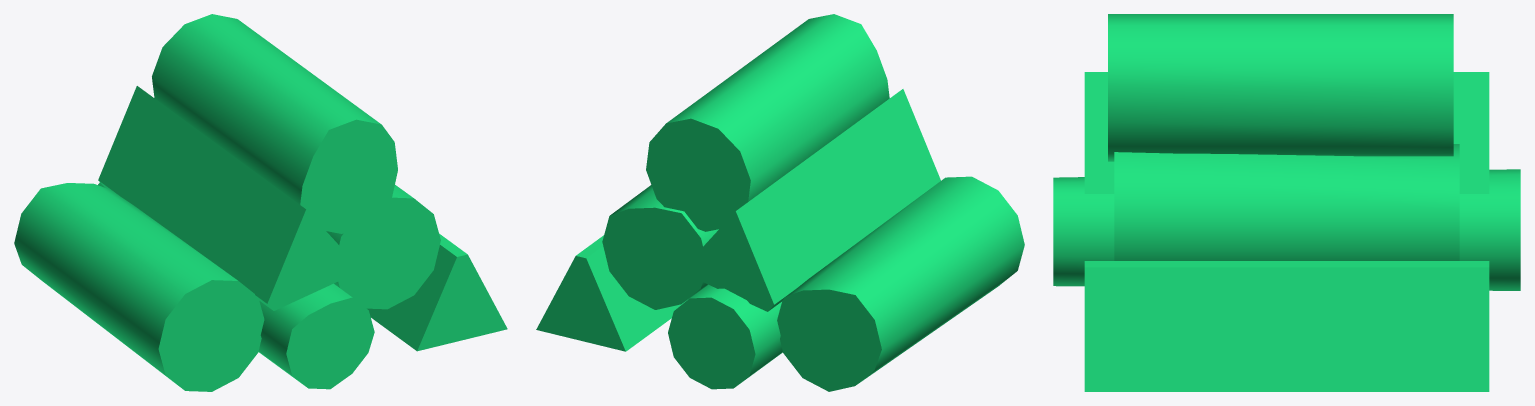
Rendered from Wood_Pile_01_Lod0.fbx.
3 views of the same model, side by side, from view 1: azimuth 30°, elevation 25°; view 2: azimuth 150°, elevation 25°; view 3: azimuth 270°, elevation 25° (orthographic). The views are drawn at different scales.
Parts seen in each view (by area): view 1: Wood_Pile_01_Lod0; view 2: Wood_Pile_01_Lod0; view 3: Wood_Pile_01_Lod0.
Boxes of the visible parts, x1,y1,x2,y2 form: Wood_Pile_01_Lod0: (14,14,507,391); Wood_Pile_01_Lod0: (536,14,1024,391); Wood_Pile_01_Lod0: (1053,14,1520,391).
Size of the model in its own units: 67.36 by 46.04 by 67.64.
